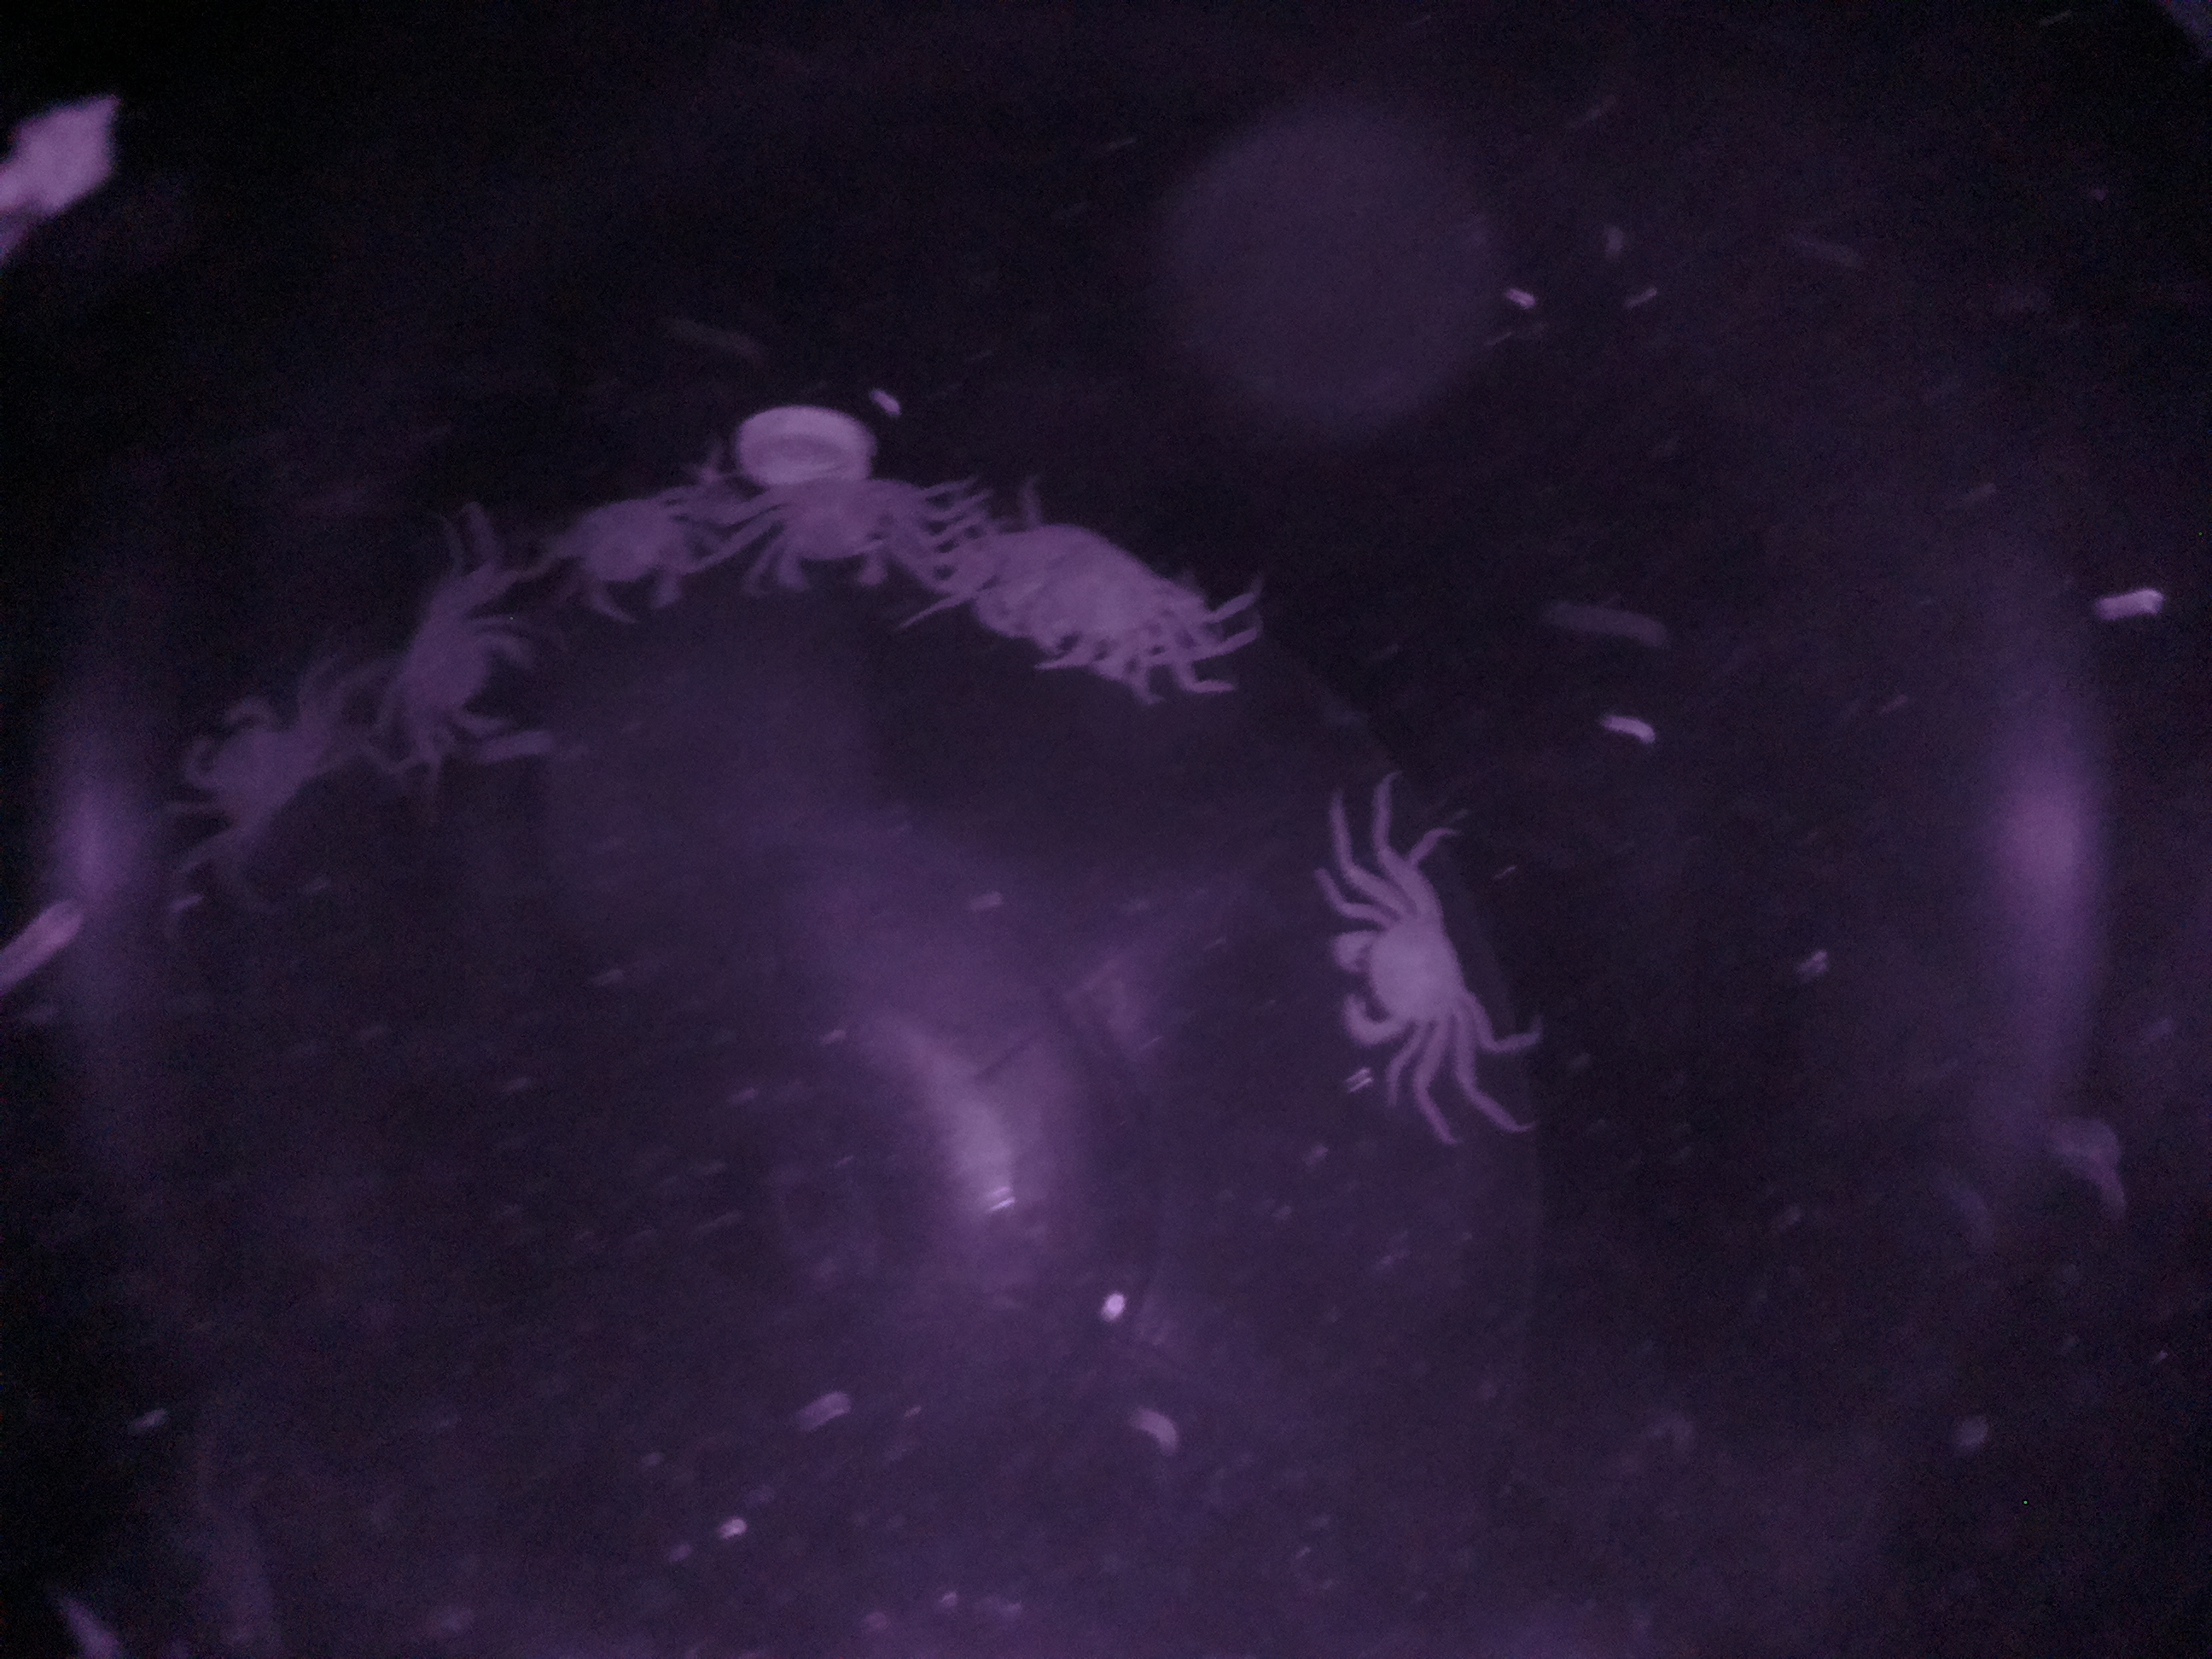Crab: (1320, 866, 1493, 1079)
